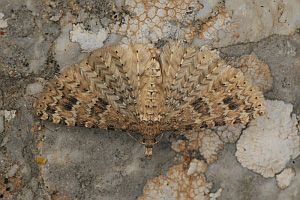Alucitidae: (28, 35, 266, 154)
moth: (30, 37, 268, 156)
